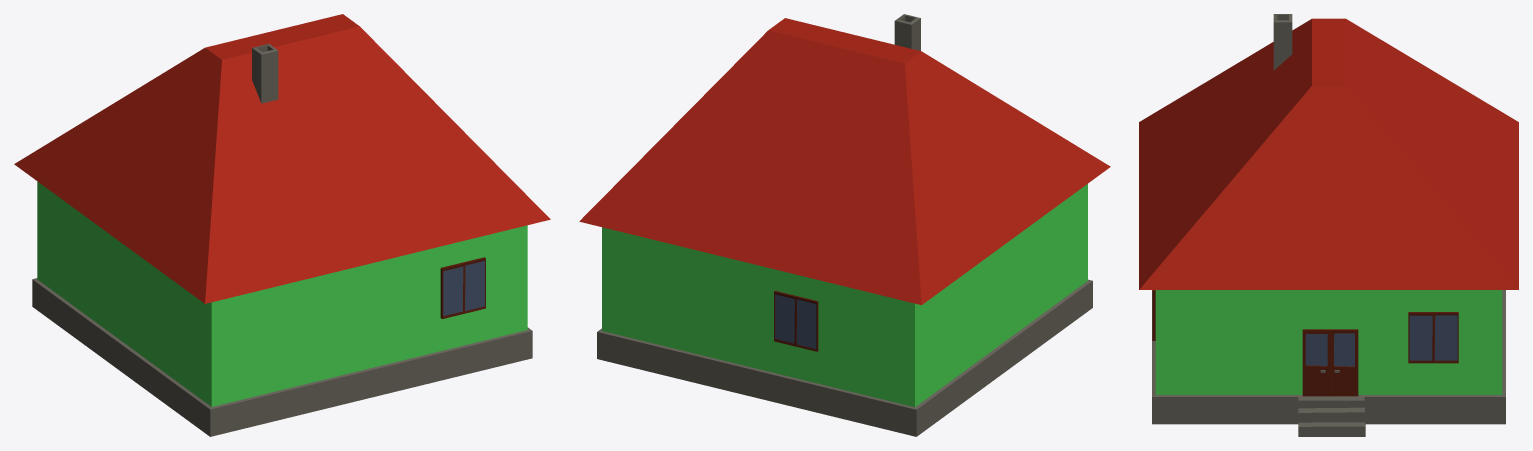
Rendered from GreenHouse.glb.
The picture shows the model from 3 angles, left to right: view 1: azimuth 30°, elevation 25°; view 2: azimuth 150°, elevation 25°; view 3: azimuth 270°, elevation 25°; orthographic projection.
Parts seen in each view (by area): view 1: Cube.016; view 2: Cube.016; view 3: Cube.016.
Part boxes in pixels (bbox=[...]): Cube.016: bbox=[14, 14, 550, 436]; Cube.016: bbox=[579, 14, 1110, 436]; Cube.016: bbox=[1139, 14, 1518, 436].
Size of the model in its own units: 1.9 by 1.57 by 1.74.
